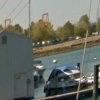Boat: (43, 60, 100, 100)
